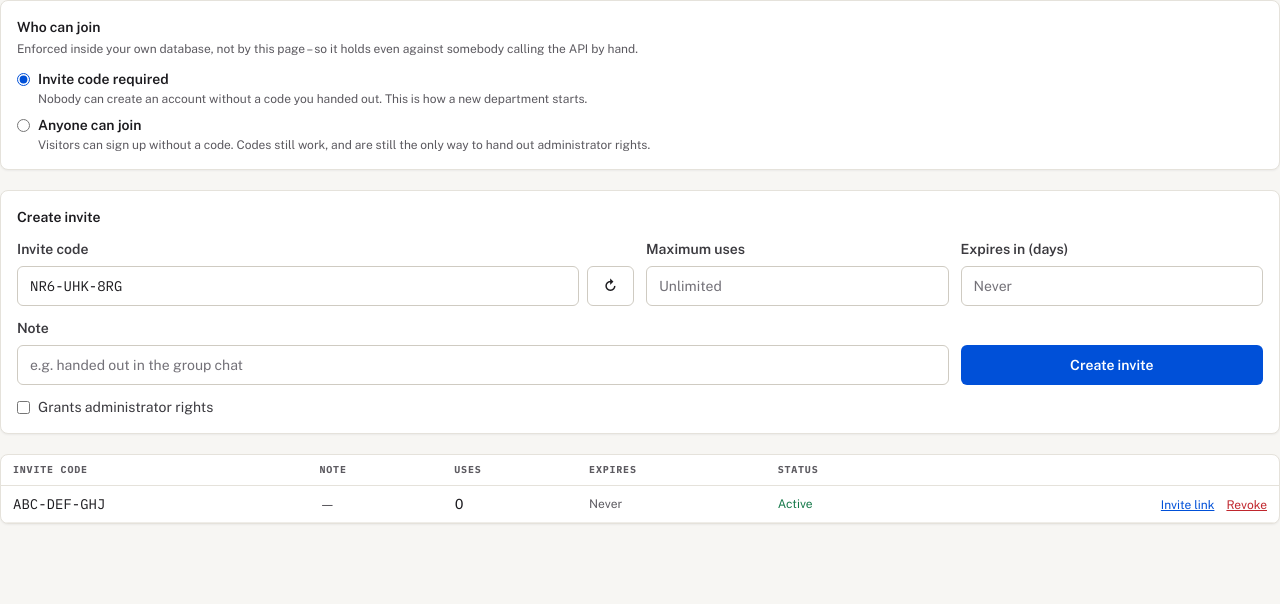
Test: action refusal feedback › does not claim an invite was revoked when no row was deleted
Click the button "Revoke" at [1247, 505], box [1226, 497, 1267, 513]
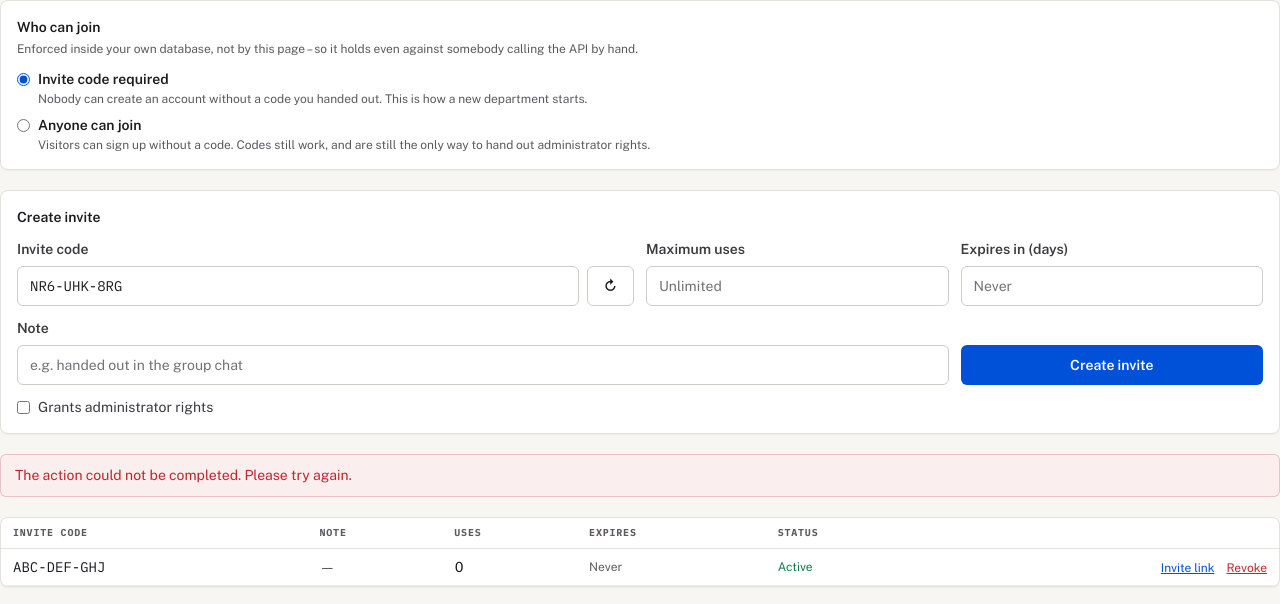
Expected: the text "ABC-DEF-GHJ" is shown, [1, 548, 308, 586]
Expected: the message reads "The action could not be completed. Please try again.", [15, 467, 352, 483]
